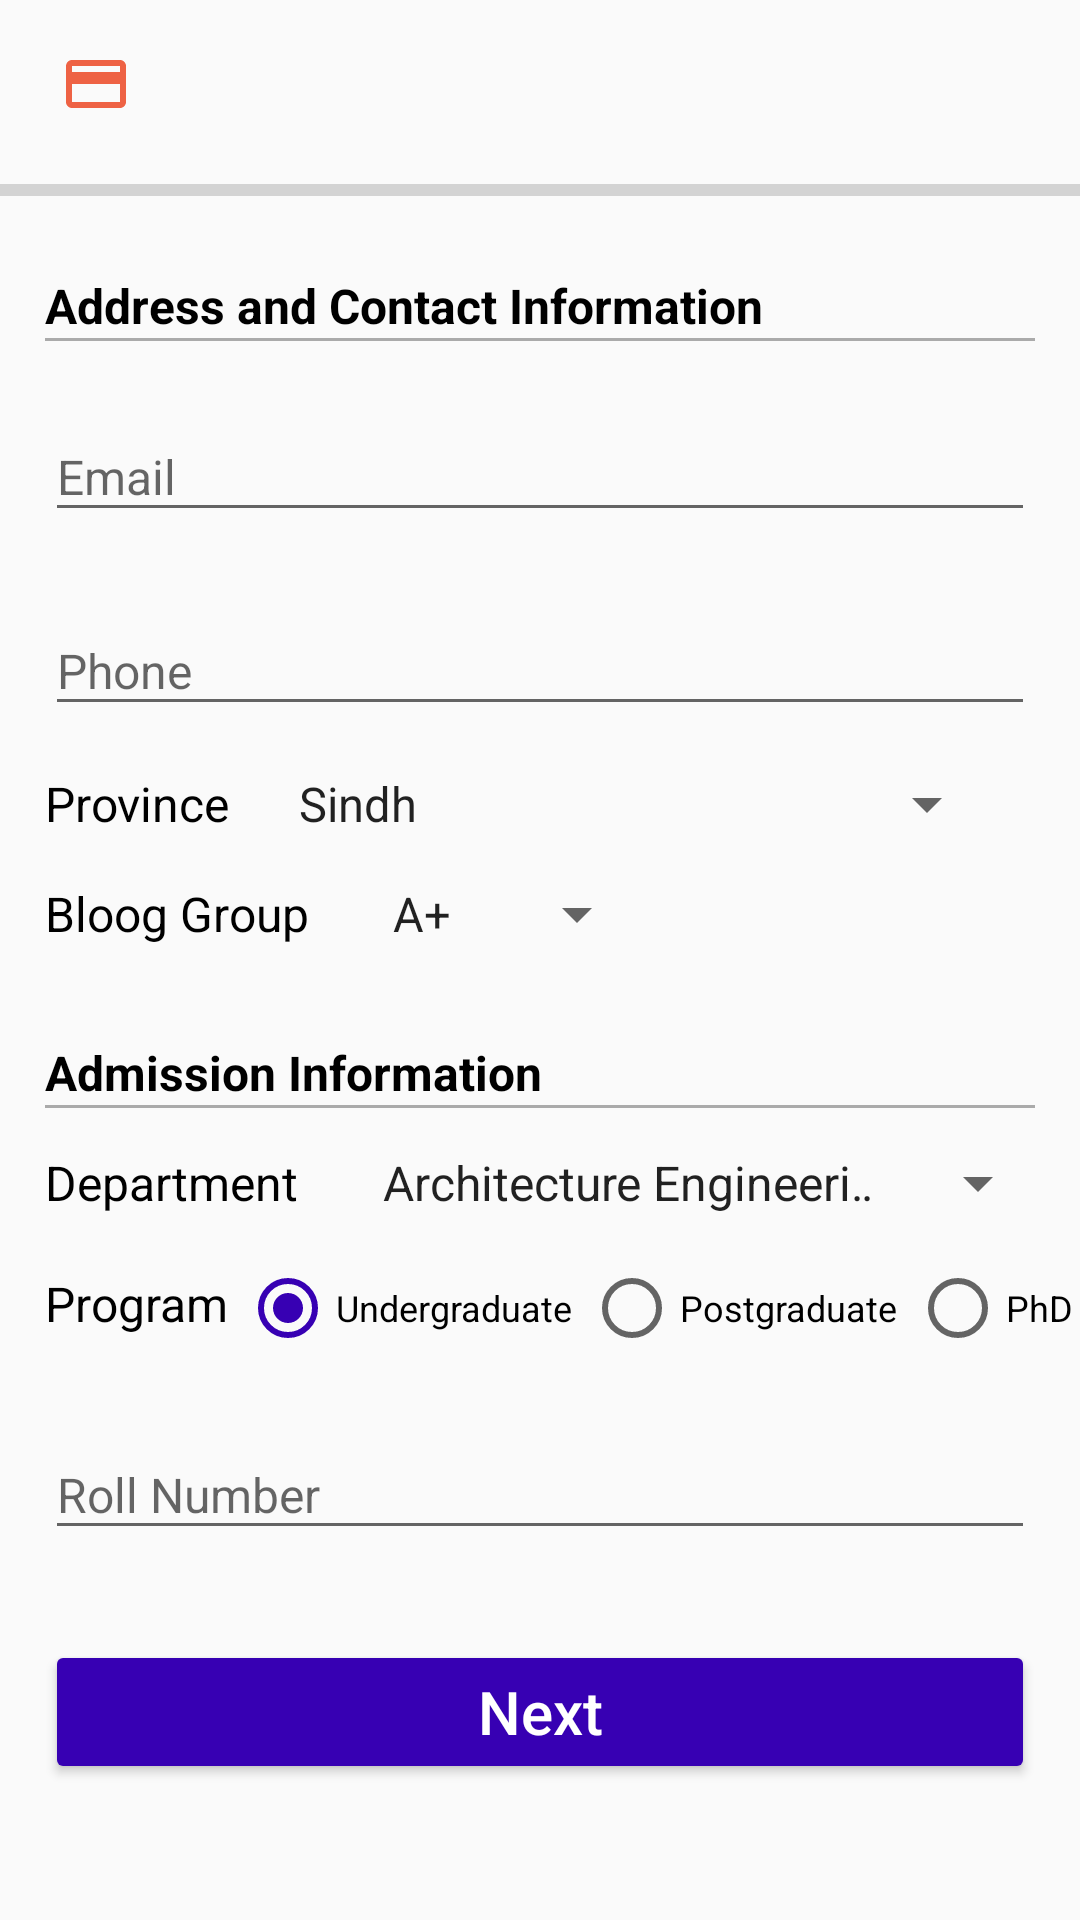

Named icons in this screenshot (1080w x 1920h) and their bounding boxes, BBox(x1, y1, x2, y2):
smart card: BBox(66, 60, 126, 108)
